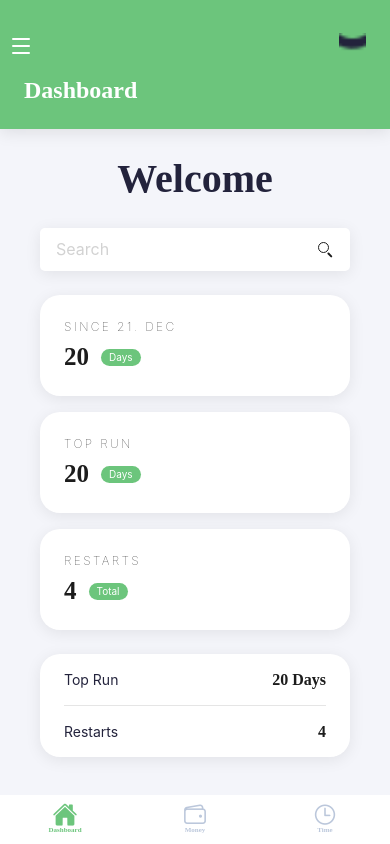
App › opens the dashboard menu from the header button
This screenshot has width=390, height=844.
Click the button with test id "dashboard-menu-button". click: [34, 46]
box: top-left (12, 24), bottom-right (56, 68)
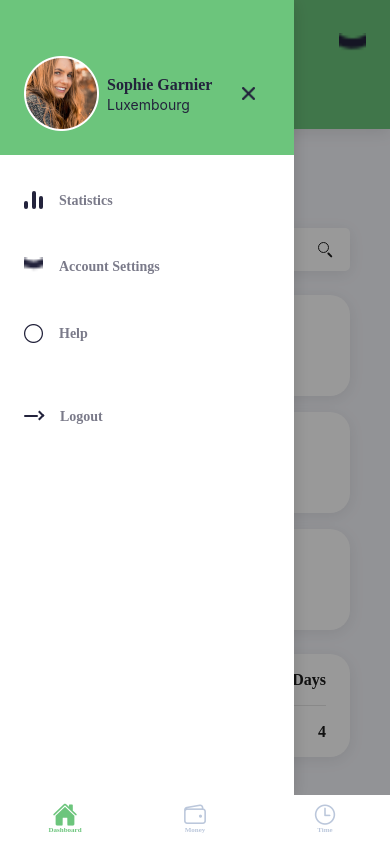
Now the text "Sophie Garnier" is shown, box top-left (107, 74), bottom-right (226, 94)
Now the text "Account Settings" is shown, box top-left (59, 258), bottom-right (160, 275)
